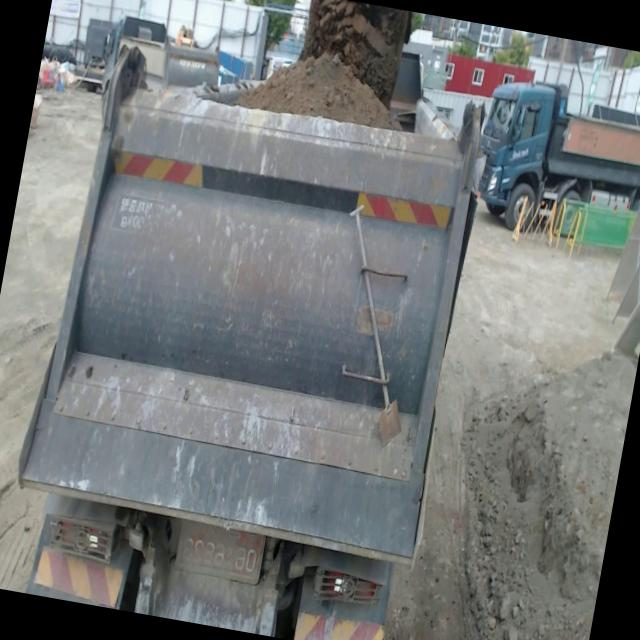red-sand: (238, 53, 401, 129), (299, 0, 413, 108)
white-sand: (451, 355, 636, 640)
